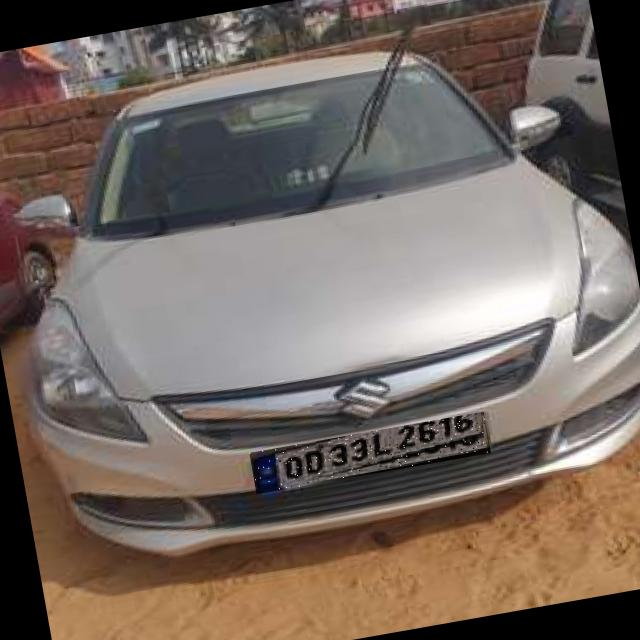Plate: (250, 412, 492, 495)
